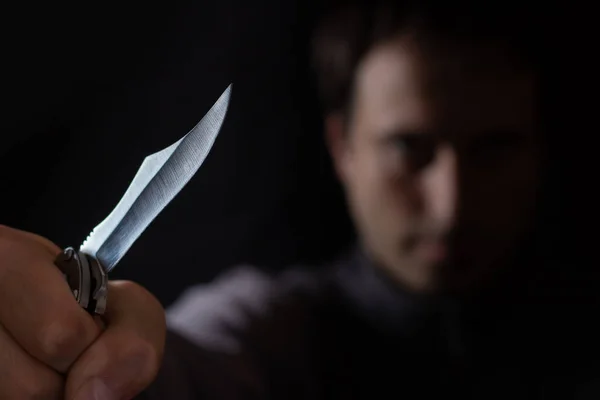knife: (15, 37, 238, 371)
